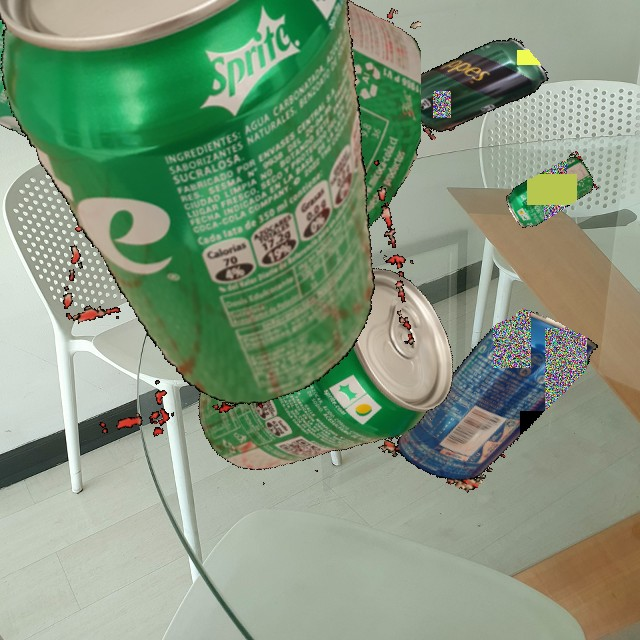pepsi: (378, 274, 606, 523)
schweppes: (387, 7, 555, 166)
sprite: (0, 0, 450, 463), (0, 0, 421, 295), (166, 241, 477, 512), (501, 149, 599, 232)
